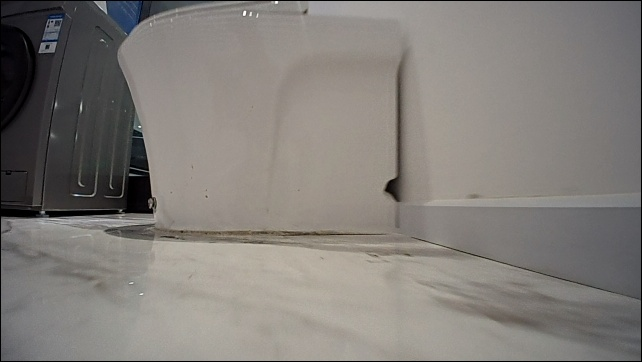toilet: (111, 1, 406, 238)
washing_machine: (0, 0, 135, 220)
